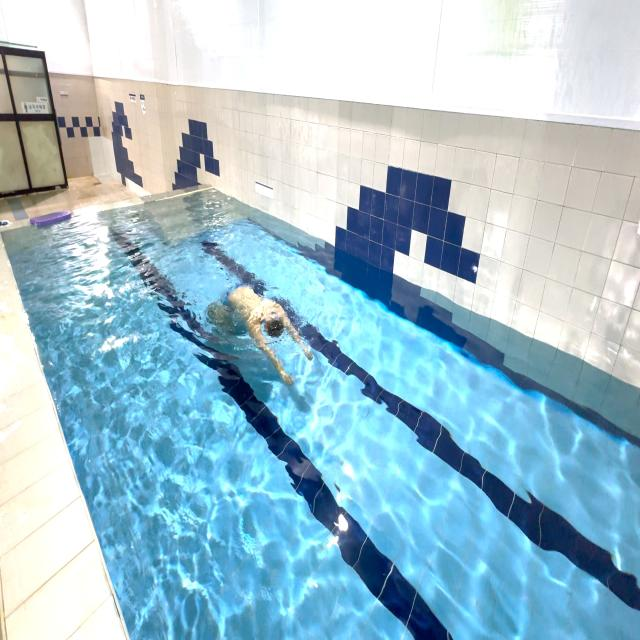Drowning: (202, 254, 320, 395)
